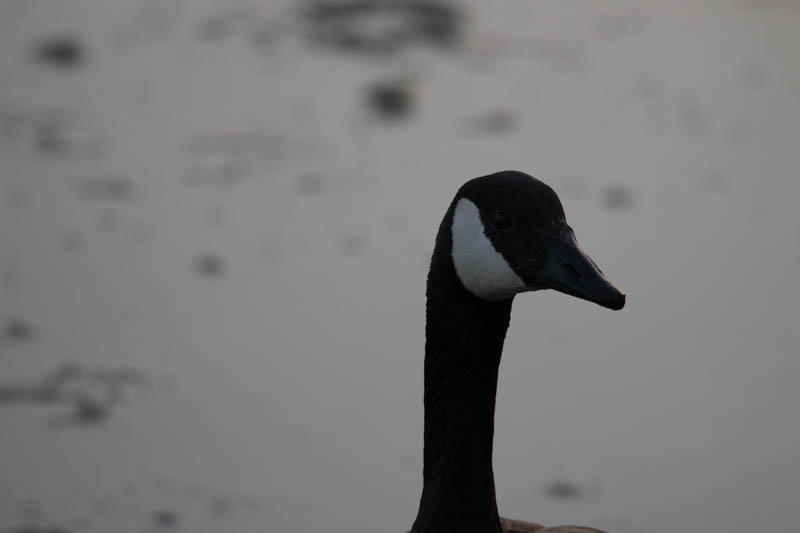goose-head: (424, 171, 627, 312)
